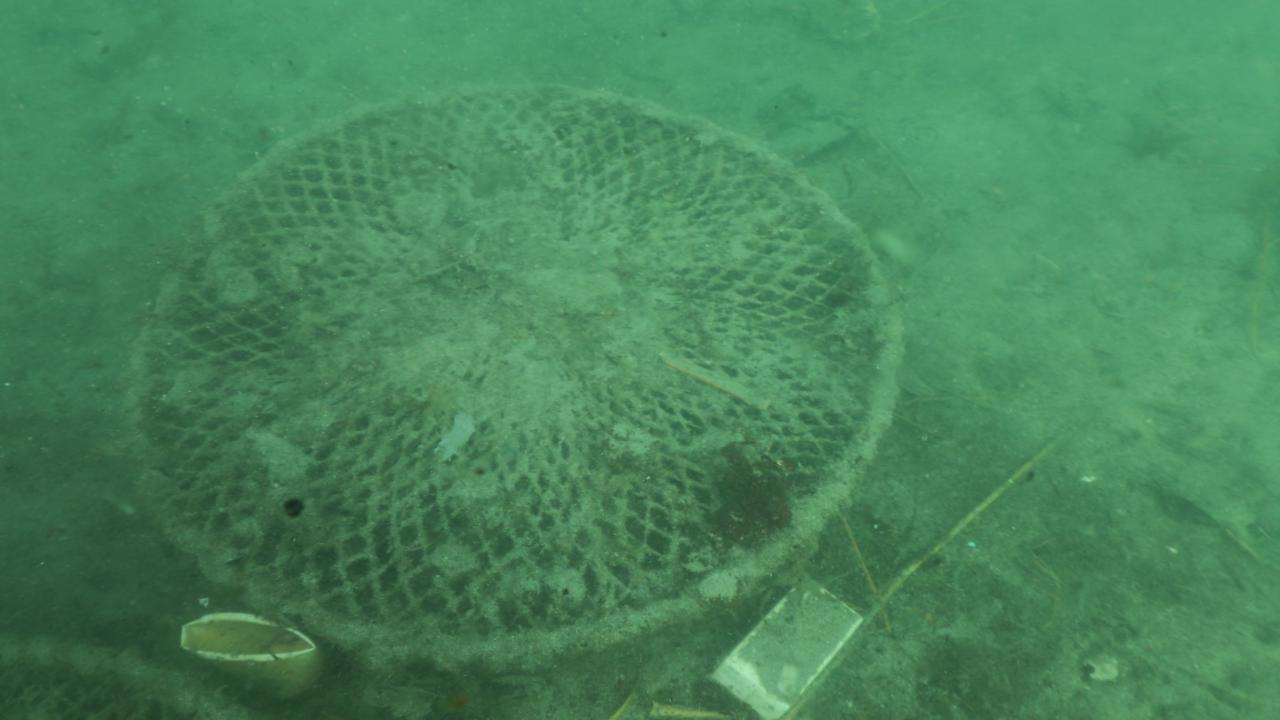circular fish trap: (113, 72, 913, 677)
